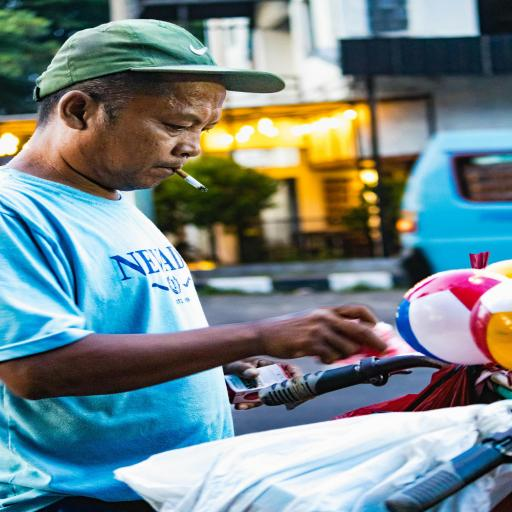terdeteksi merokok: (130, 84, 240, 200)
